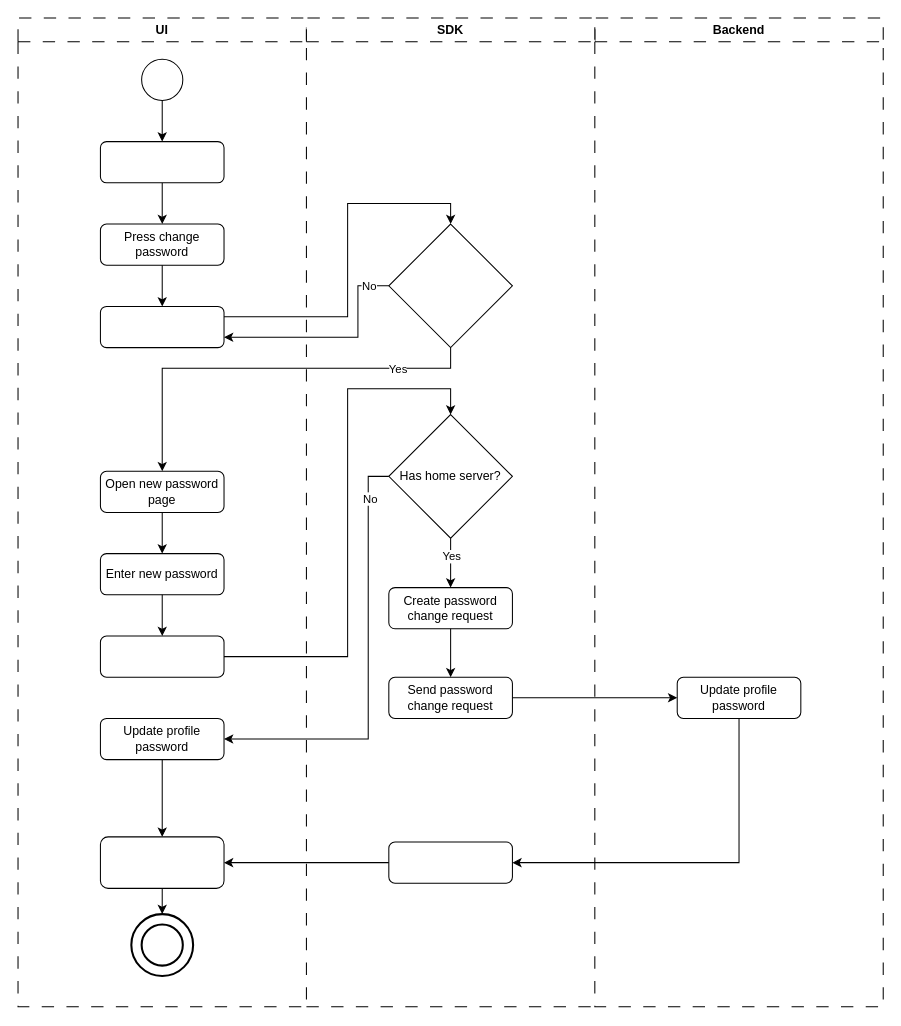
Image size: 901x1026. Some labels were removed from this diagram. Here are the shapes that lost their labels. From the top down, the centre of each, then its label:
At [161,162]: "Display settings page".
At [450,285]: "Password correct?".
At [161,326]: "Ask user to enter current password".
At [161,656]: "Confirm new password".
At [161,862]: "Show dialogue to confirm password change".
At [450,862]: "Decode response message".
